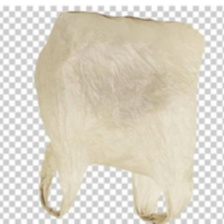plastic_bag: (28, 10, 207, 224)
